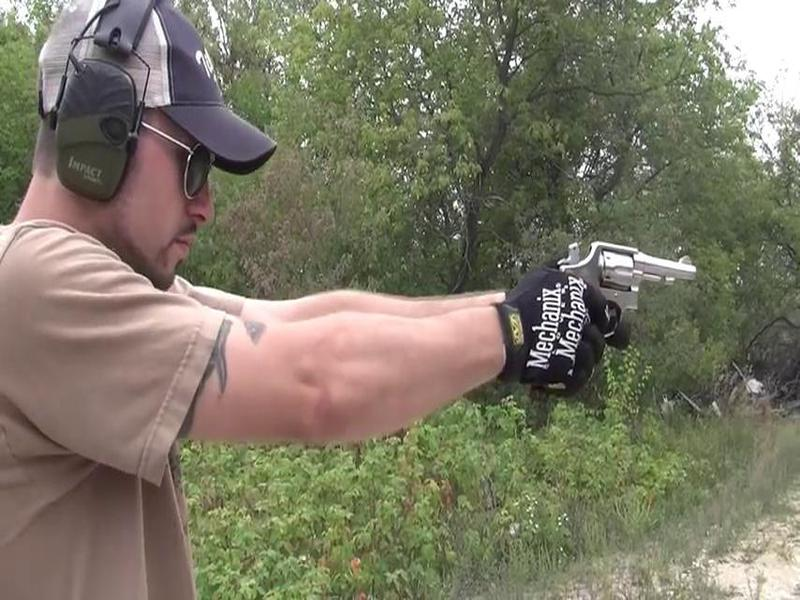Revolver: (552, 226, 708, 346)
